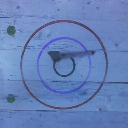Axe Tip: (48, 52, 60, 55)
